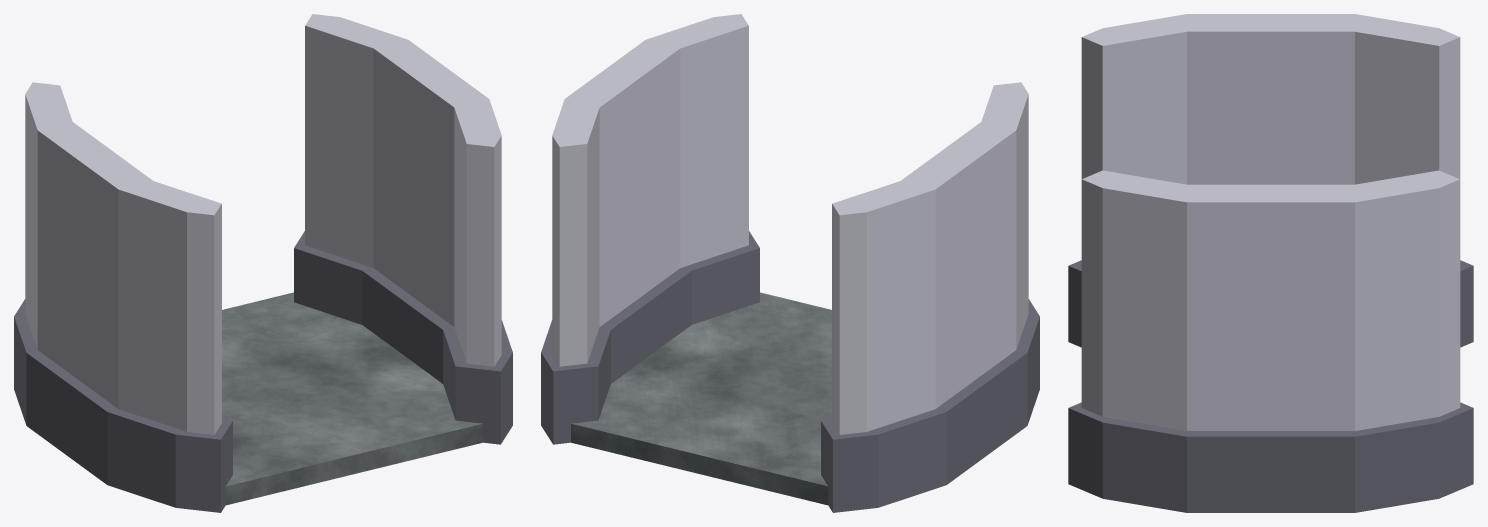
Rendered from sm_hallway_01.fbx.
3 renders of one model, left to right at view 1: azimuth 30°, elevation 25°; view 2: azimuth 150°, elevation 25°; view 3: azimuth 270°, elevation 25°, orthographic. The views are drawn at different scales.
Parts seen in each view (by area): view 1: wall_03_165, wall_03_166, floor_14_164; view 2: wall_03_165, wall_03_166, floor_14_164; view 3: wall_03_166, wall_03_165.
Part boxes in pixels (bbox=[...]): wall_03_165: bbox=[14, 82, 232, 512]; wall_03_166: bbox=[294, 14, 512, 444]; floor_14_164: bbox=[222, 292, 482, 505]; wall_03_165: bbox=[821, 82, 1039, 512]; wall_03_166: bbox=[541, 14, 759, 444]; floor_14_164: bbox=[571, 292, 831, 505]; wall_03_166: bbox=[1068, 170, 1473, 512]; wall_03_165: bbox=[1068, 14, 1473, 347].
Size of the model in its own units: 14.05 by 10 by 12.05.
